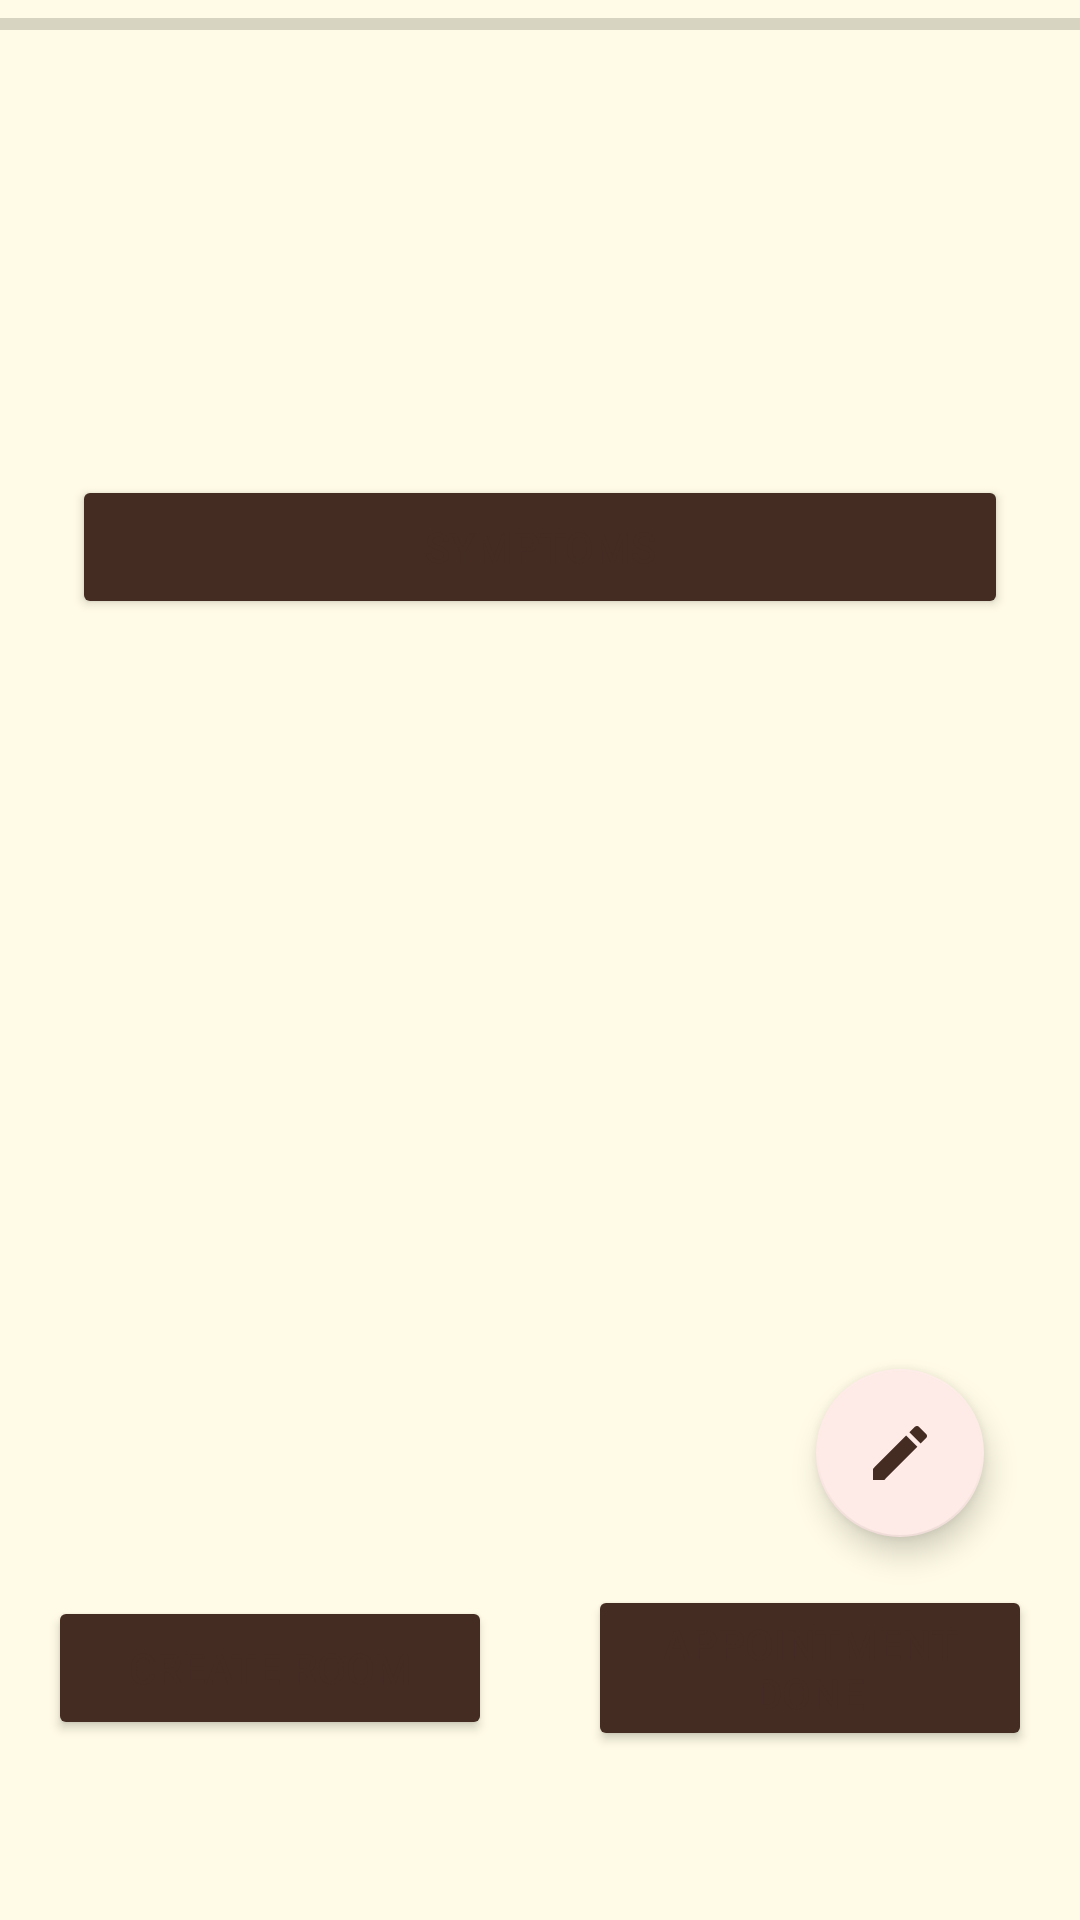

Screen size 1080w x 1920h. Icon name, then its box in pixels as (x1, y1, x2, y2):
edit: (816, 1369, 984, 1537)
